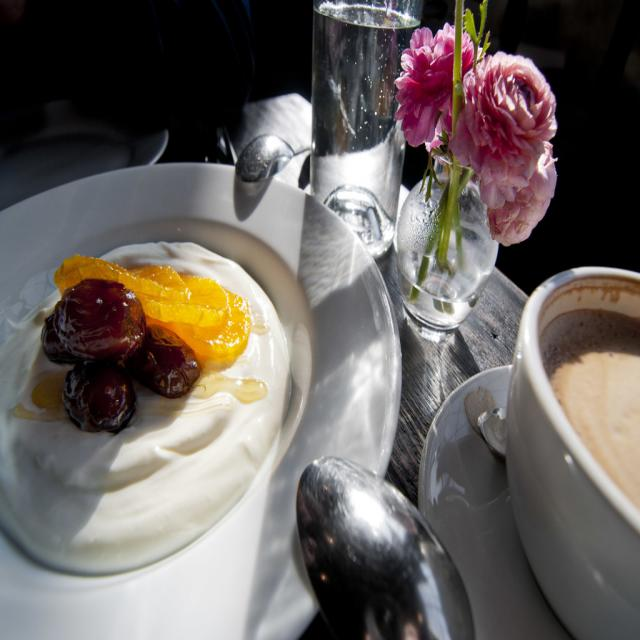Coffee: (506, 257, 634, 637)
